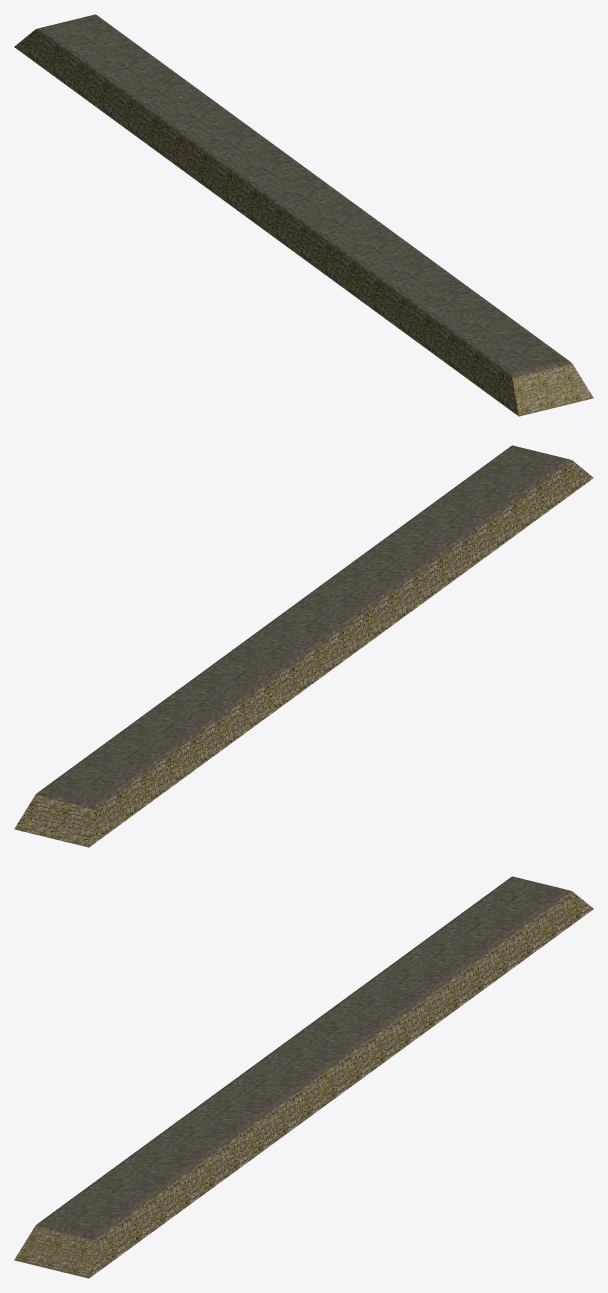
File: schoolbasestone.fbx
3 renders of one model, top to bottom at view 1: azimuth 30°, elevation 25°; view 2: azimuth 150°, elevation 25°; view 3: azimuth 330°, elevation 25°, orthographic.
Parts seen in each view (by area): view 1: school base; view 2: school base; view 3: school base.
Boxes of the visible parts, left/top/right/bottom form: school base: left=14, top=14, right=593, bottom=416; school base: left=14, top=445, right=593, bottom=847; school base: left=14, top=876, right=593, bottom=1278.
Bounding box in the file's own units: 851 × 309 × 9927.
